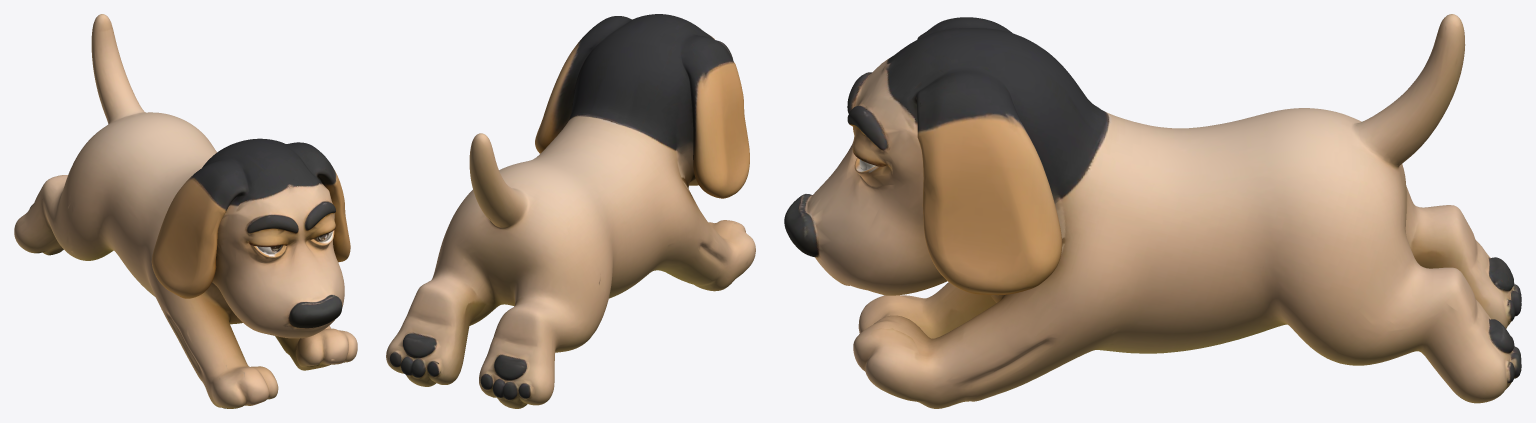
File: character4-dog.glb
3 renders of one model, left to right at view 1: azimuth 30°, elevation 25°; view 2: azimuth 150°, elevation 25°; view 3: azimuth 270°, elevation 25°, orthographic. The views are drawn at different scales.
Parts seen in each view (by area): view 1: node_0; view 2: node_0; view 3: node_0.
Boxes of the visible parts, left/top/right/bottom form: node_0: left=14, top=14, right=357, bottom=408; node_0: left=386, top=14, right=755, bottom=408; node_0: left=784, top=14, right=1521, bottom=408.
Size of the model in its own units: 0.4518 by 0.6305 by 1.1.
1 material, 1 textured.
